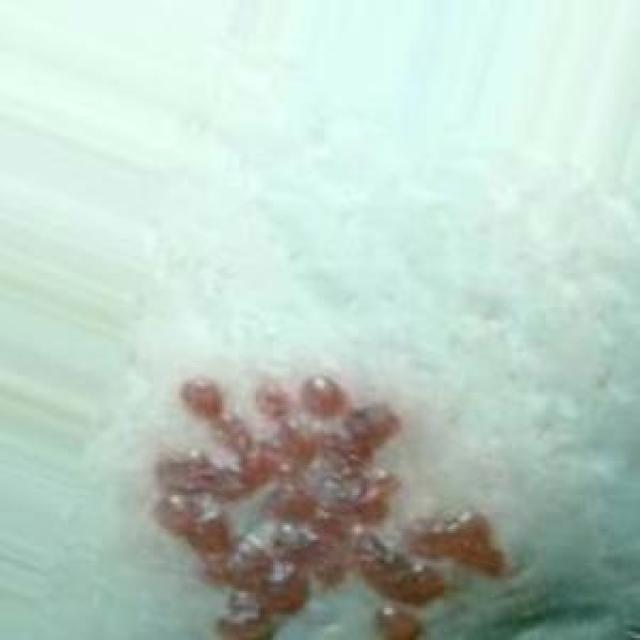Shingles: (150, 363, 506, 640)
